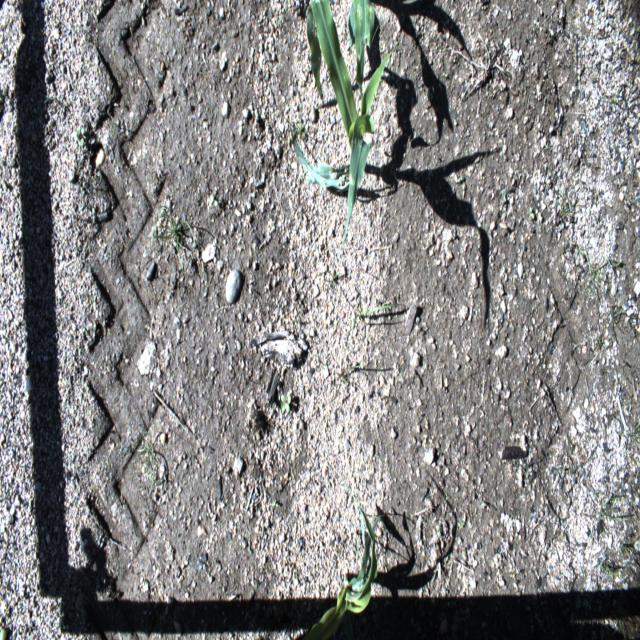crop: (290, 1, 400, 260), (299, 478, 409, 638), (348, 0, 374, 103)
weed: (150, 205, 195, 287), (118, 429, 155, 498), (598, 494, 632, 541), (280, 388, 292, 415), (75, 126, 85, 147)
